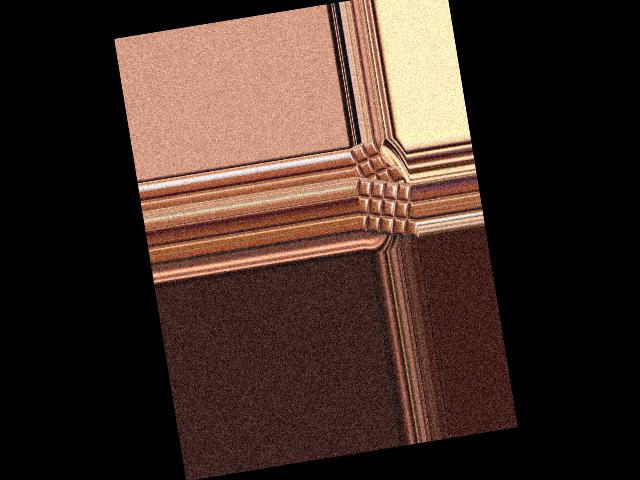chocolate: (353, 167, 419, 247)
